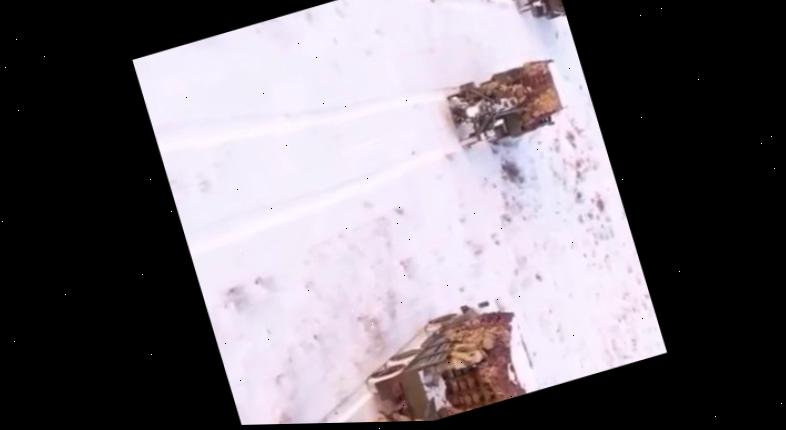person: (410, 332, 502, 392), (337, 405, 423, 423), (424, 396, 474, 421)
truck: (345, 269, 547, 423), (466, 51, 576, 150), (517, 0, 567, 28)
